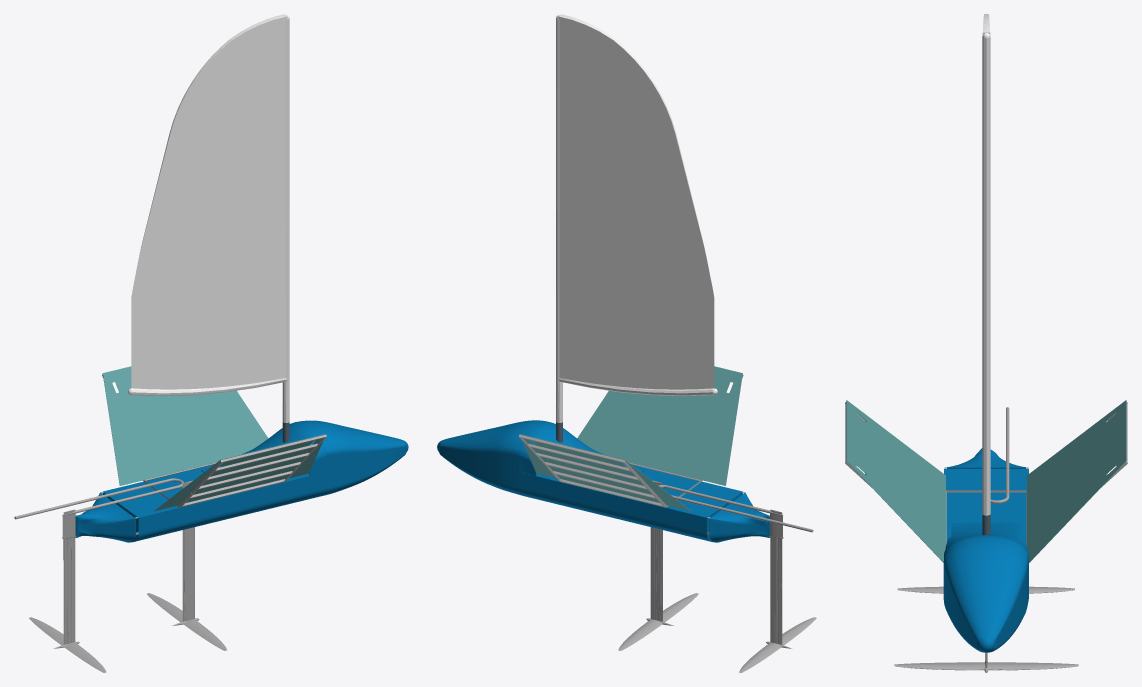
Rendered from assiemeMaya.glb.
The picture shows the model from 3 angles, left to right: view 1: azimuth 30°, elevation 25°; view 2: azimuth 150°, elevation 25°; view 3: azimuth 270°, elevation 25°; orthographic projection. The views are drawn at different scales.
Size of the model in its own units: 3.73 by 5.44 by 2.01.
